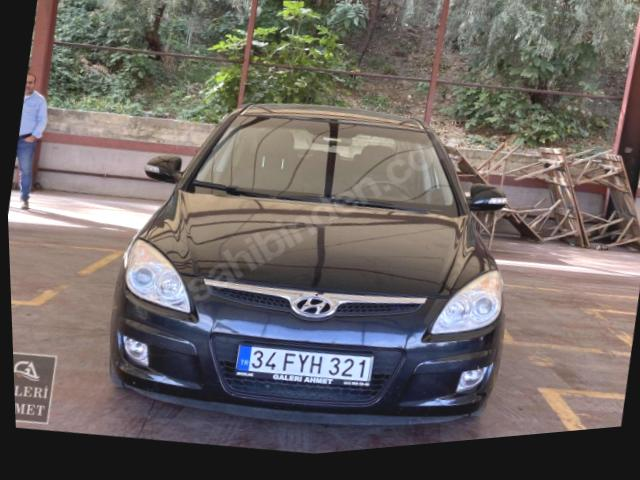plaka: (235, 345, 373, 385)
